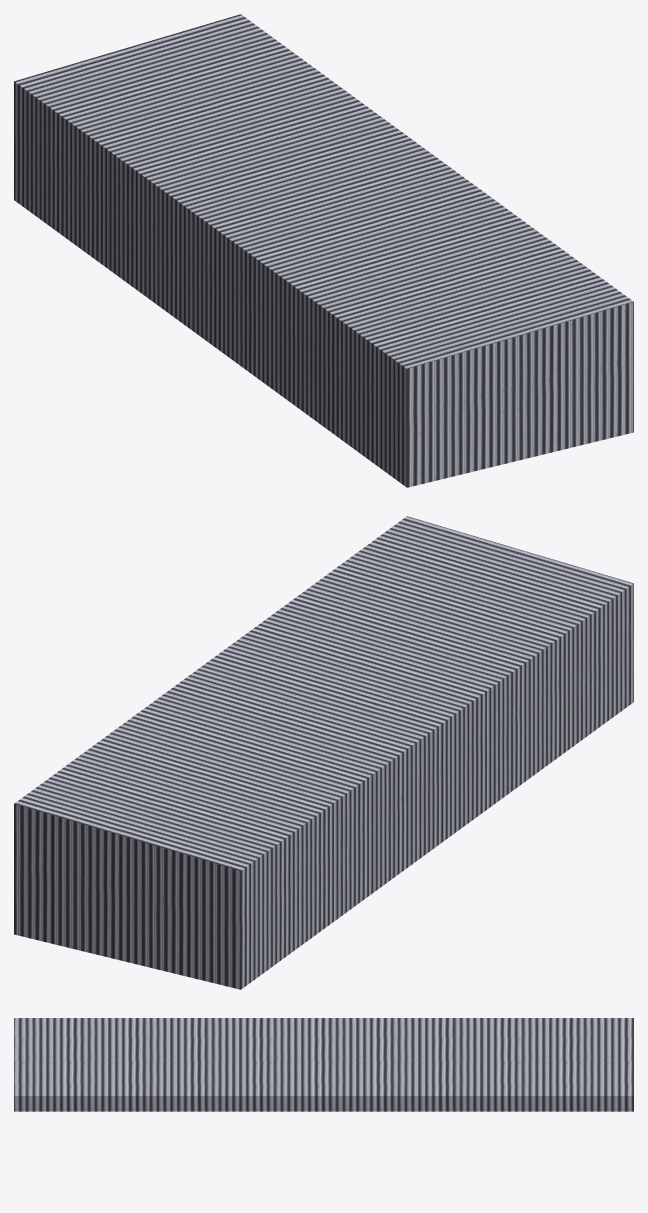
The model's file is LLEYHANGAR2.gltf.
3 views of the same model, one above another, from view 1: azimuth 30°, elevation 25°; view 2: azimuth 150°, elevation 25°; view 3: azimuth 270°, elevation 25° (orthographic). The views are drawn at different scales.
Parts seen in each view (by area): view 1: node1; view 2: node1; view 3: node1.
Part boxes in pixels (x1=…): node1: x1=14, y1=14, x2=633, y2=487; node1: x1=14, y1=516, x2=633, y2=989; node1: x1=14, y1=1018, x2=633, y2=1111.
Size of the model in its own units: 6 by 3.3 by 18.
